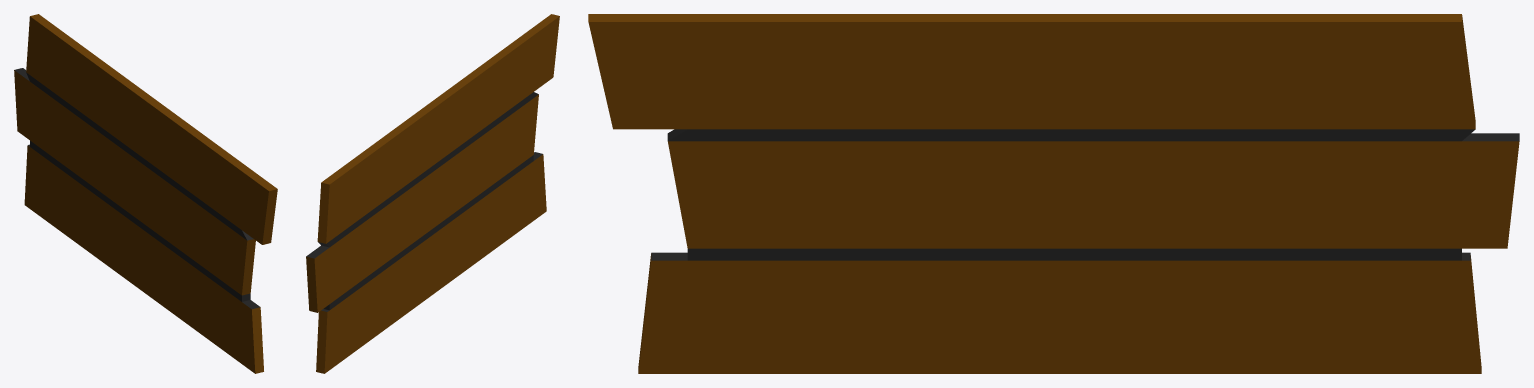
Rendered from Boards_menu.fbx.
3 renders of one model, left to right at view 1: azimuth 30°, elevation 25°; view 2: azimuth 150°, elevation 25°; view 3: azimuth 270°, elevation 25°, orthographic. The views are drawn at different scales.
Parts seen in each view (by area): view 1: BoardMenu; view 2: BoardMenu; view 3: BoardMenu.
Boxes of the visible parts, bbox=[...] form: BoardMenu: bbox=[14, 14, 277, 373]; BoardMenu: bbox=[306, 14, 559, 373]; BoardMenu: bbox=[588, 14, 1519, 373].
Size of the model in its own units: 1.4 by 29.19 by 69.96.
